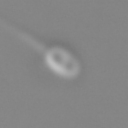normal: (1, 18, 47, 53)
